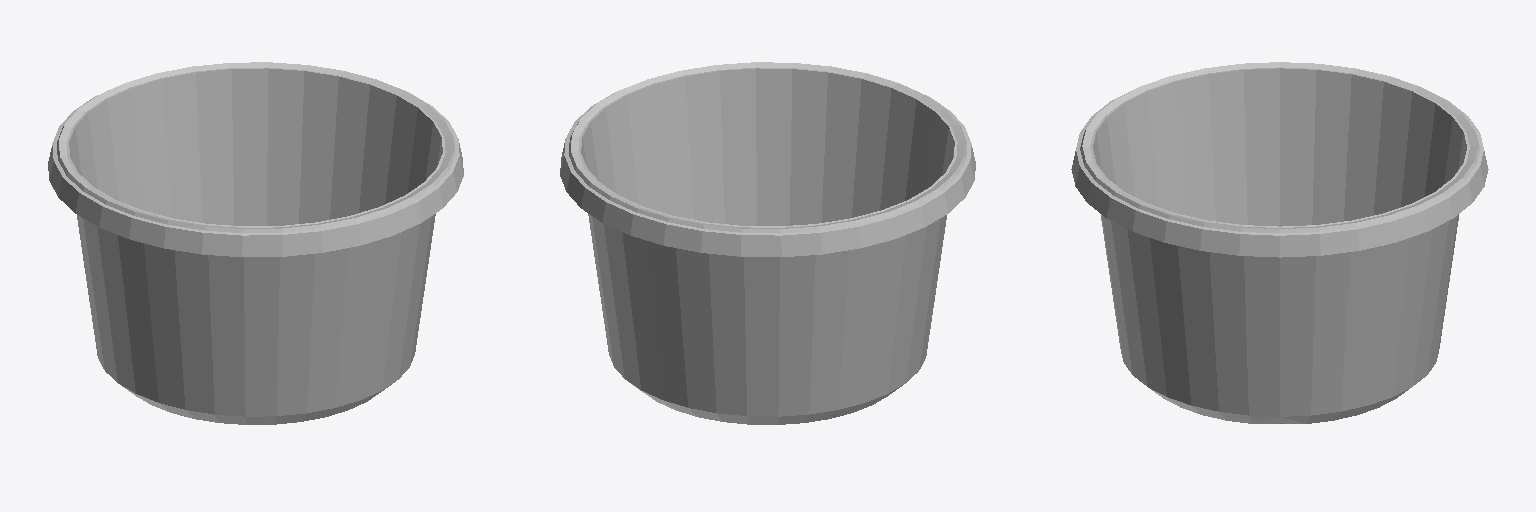
The model's file is Tray.obj.
3 renders of one model, left to right at view 1: azimuth 30°, elevation 25°; view 2: azimuth 150°, elevation 25°; view 3: azimuth 270°, elevation 25°, orthographic.
Visible parts, largest first — view 1: Tray; view 2: Tray; view 3: Tray.
Boxes of the visible parts, box(x1,y1,x2,y2) form: Tray: box(48, 62, 463, 424); Tray: box(560, 62, 975, 424); Tray: box(1071, 62, 1488, 423).
Size of the model in its own units: 0.1397 by 0.0816 by 0.1397.